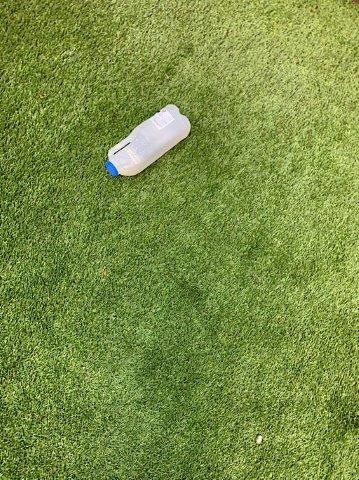botolplastik: (107, 105, 189, 176)
